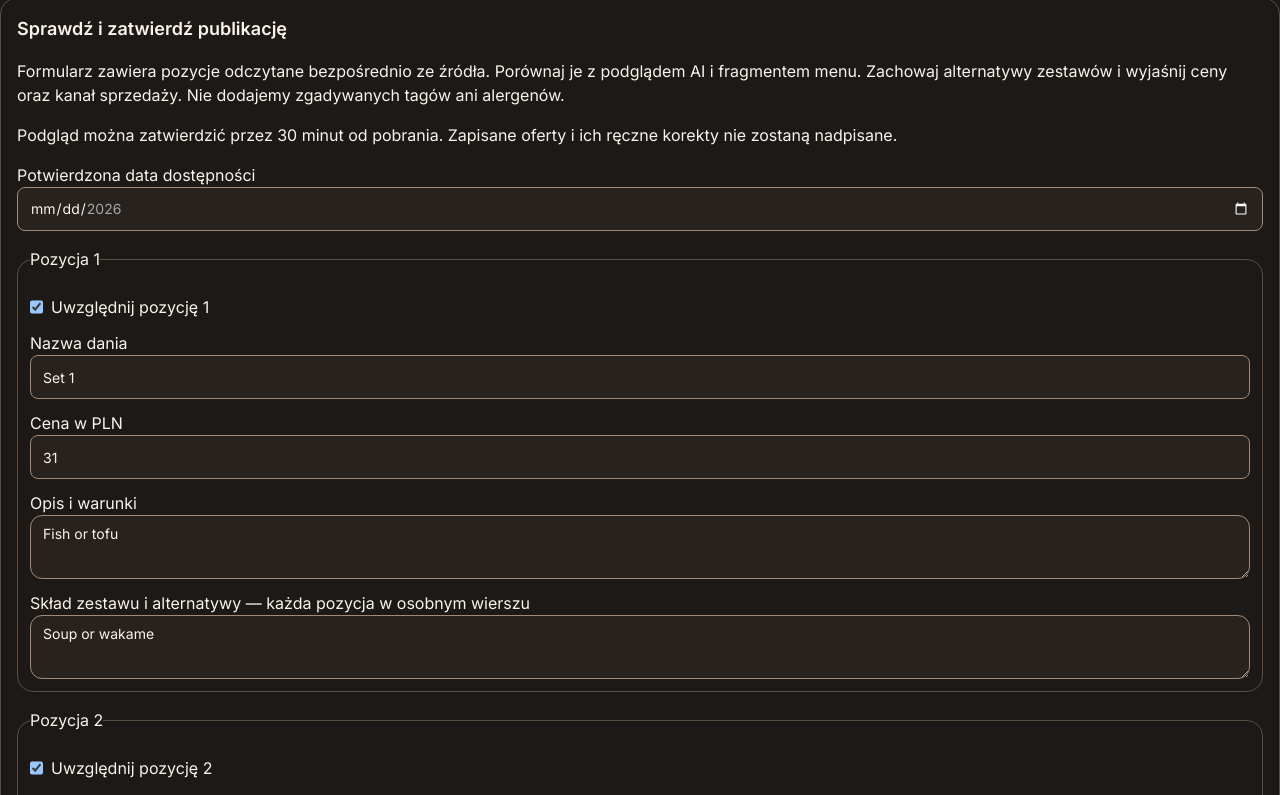
Test: operator publication review › locks the publication date, reports partial saves and retries only missing items
In the date field labelled "Potwierdzona data dostępności": (640, 209) [17,187,1263,231], type "2026-10-10"
(page scrolled)
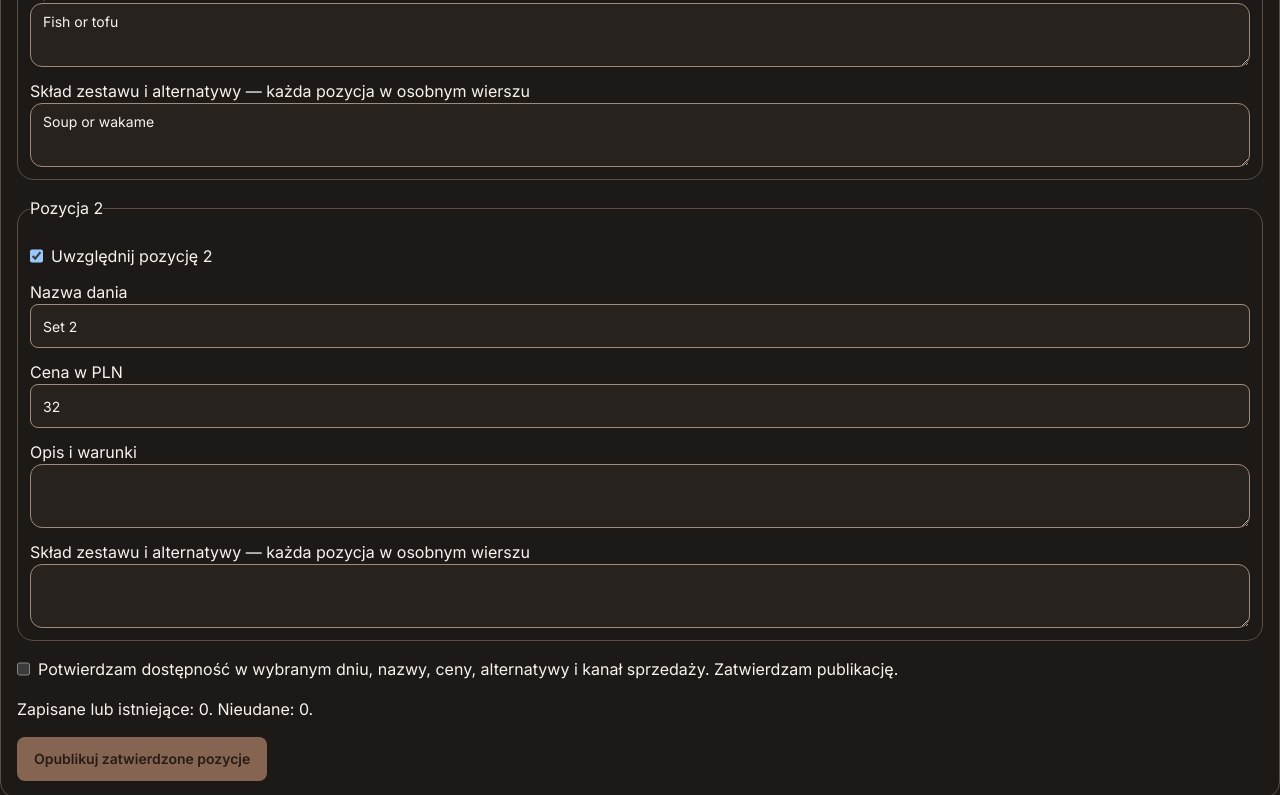
Click the checkbox labelled "Potwierdzam dostępność": (24, 669) [17,657,30,681]
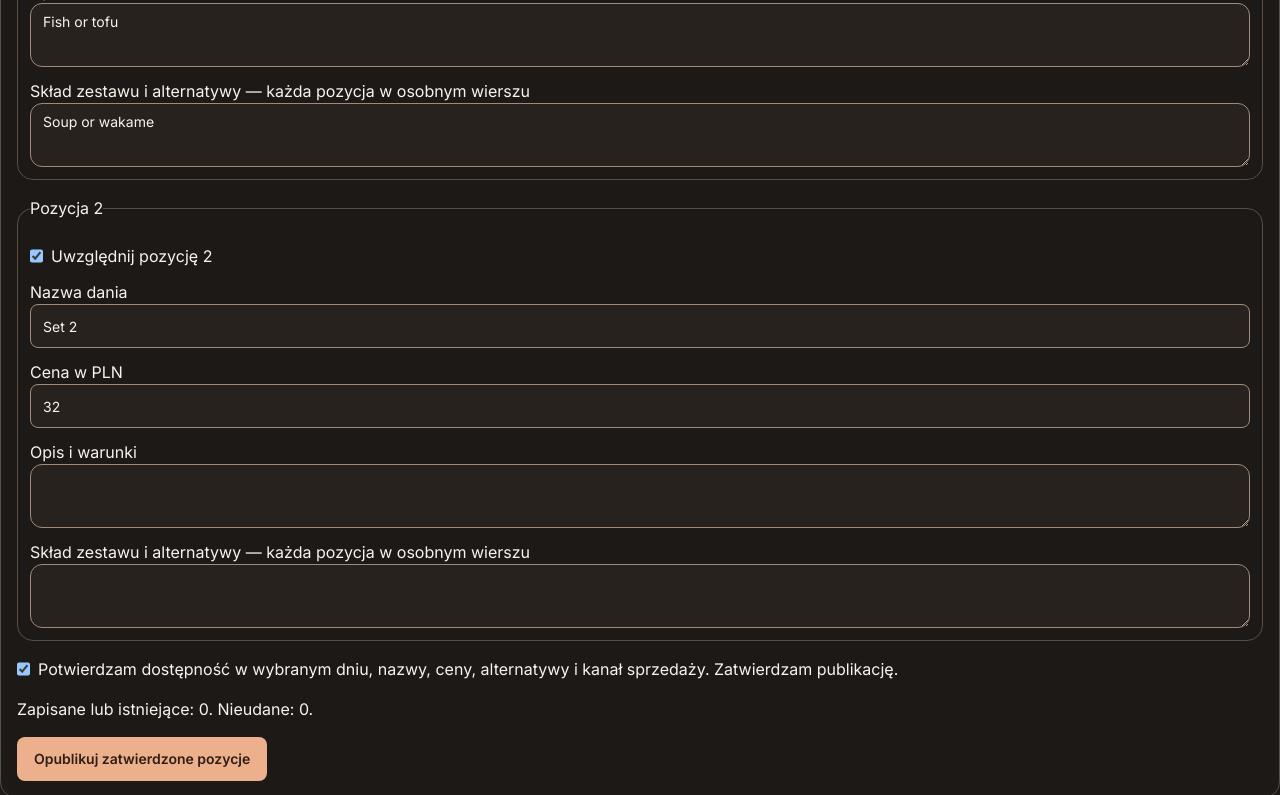
Click the button "Opublikuj zatwierdzone pozycje": (142, 759) [17,737,267,781]
(page scrolled)
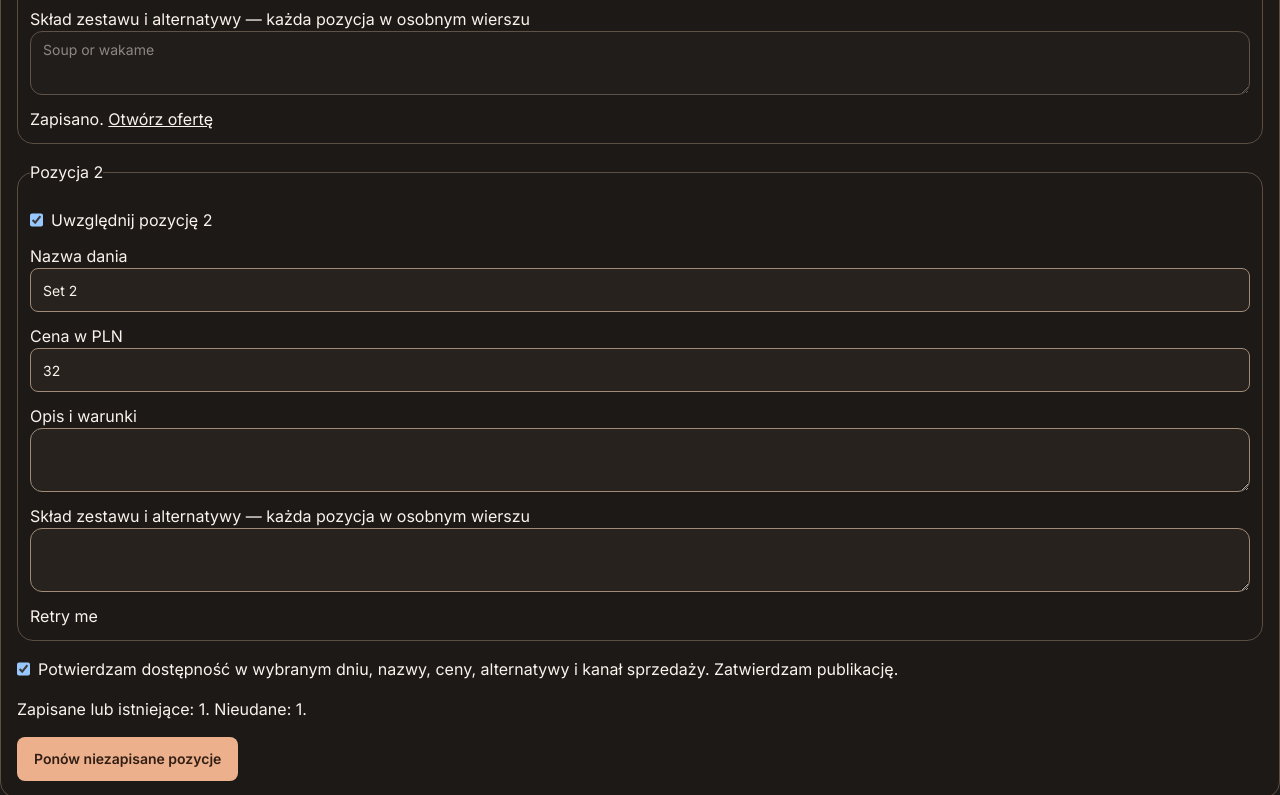
Expected: the text "Retry me" is shown, [30,606,98,626]
Click the button "Ponów niezapisane pozycje": (128, 759) [17,737,238,781]
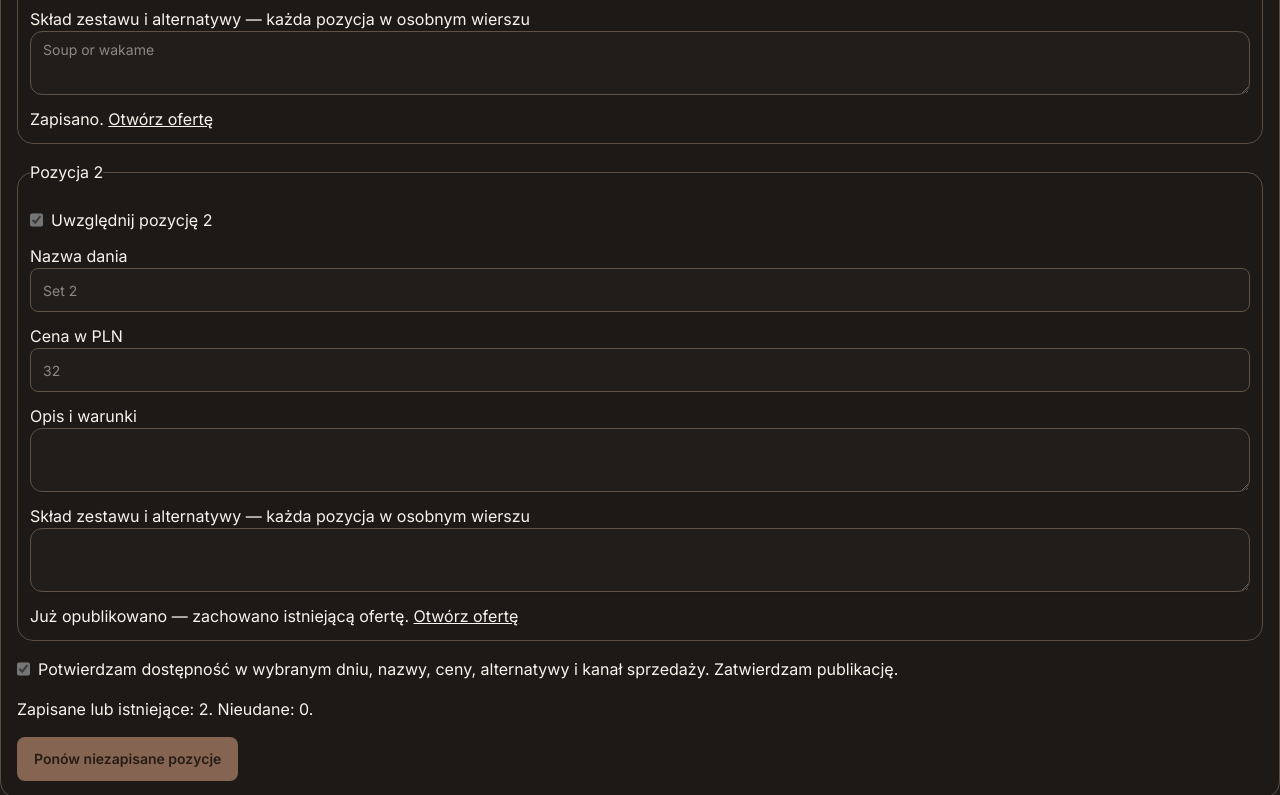
Expected: the text "Już opublikowano — zachowano istniejącą ofertę." is shown, [30,606,409,626]
